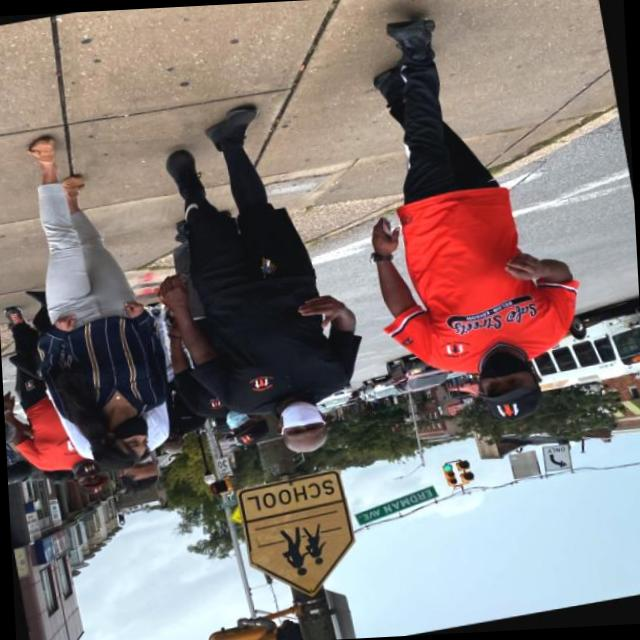person: (305, 0, 618, 453), (134, 80, 388, 484), (0, 105, 201, 486)
